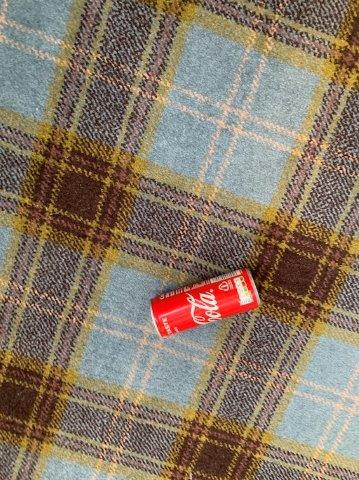kaleng: (152, 269, 260, 336)
